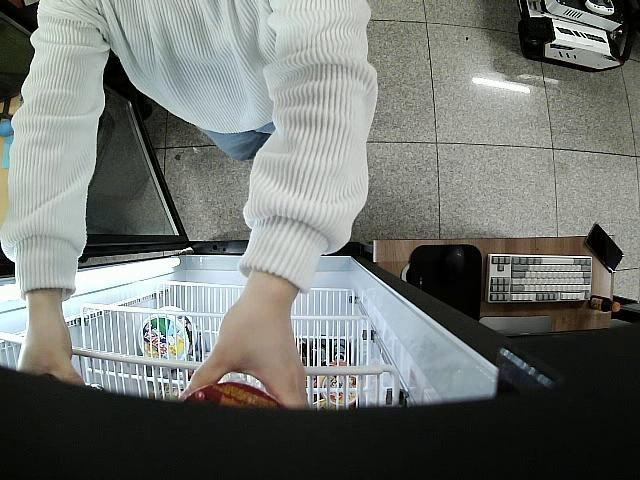06_nuguri_S: (182, 380, 290, 419)
